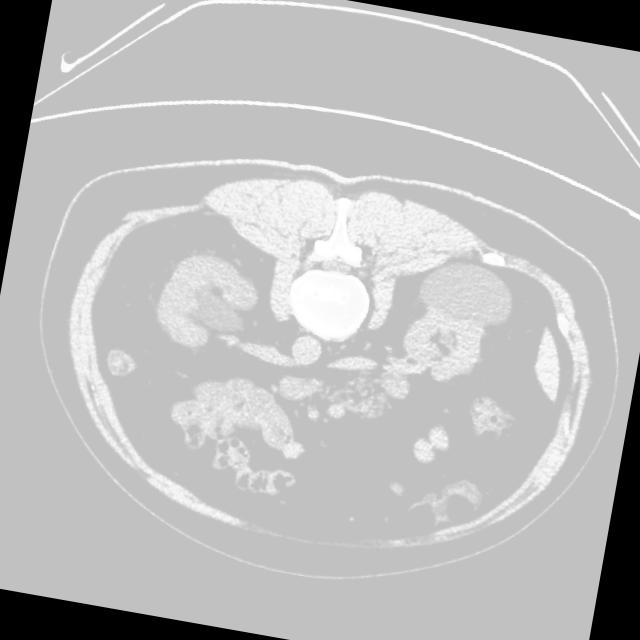cysts: (26, 129, 625, 601)
